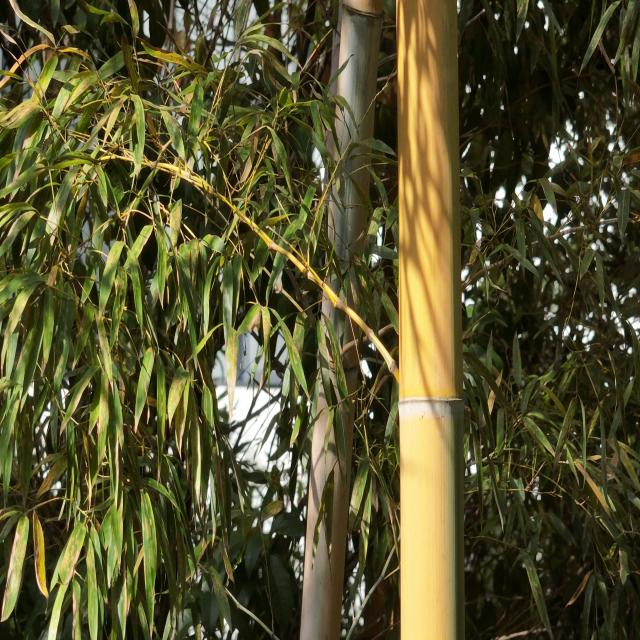Bamboo-shoots: (396, 0, 462, 640)
